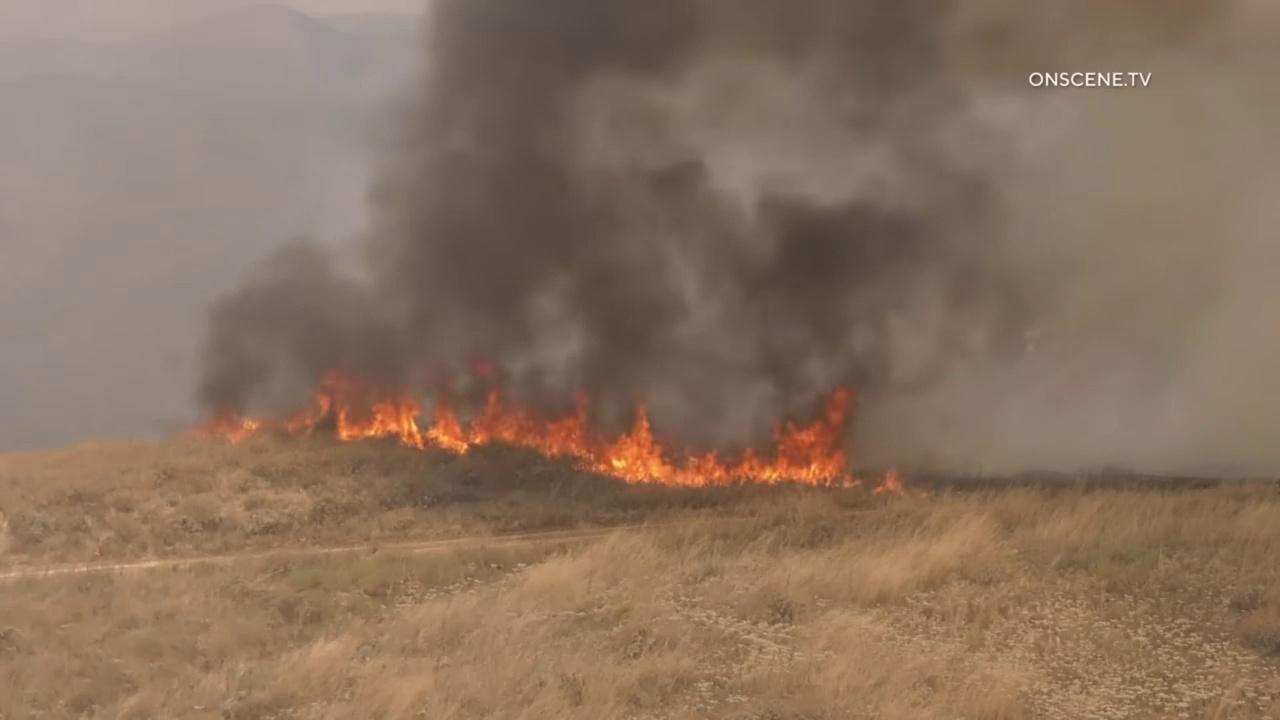fire: (186, 352, 864, 499), (870, 465, 910, 498)
smoke: (0, 0, 1280, 479)
